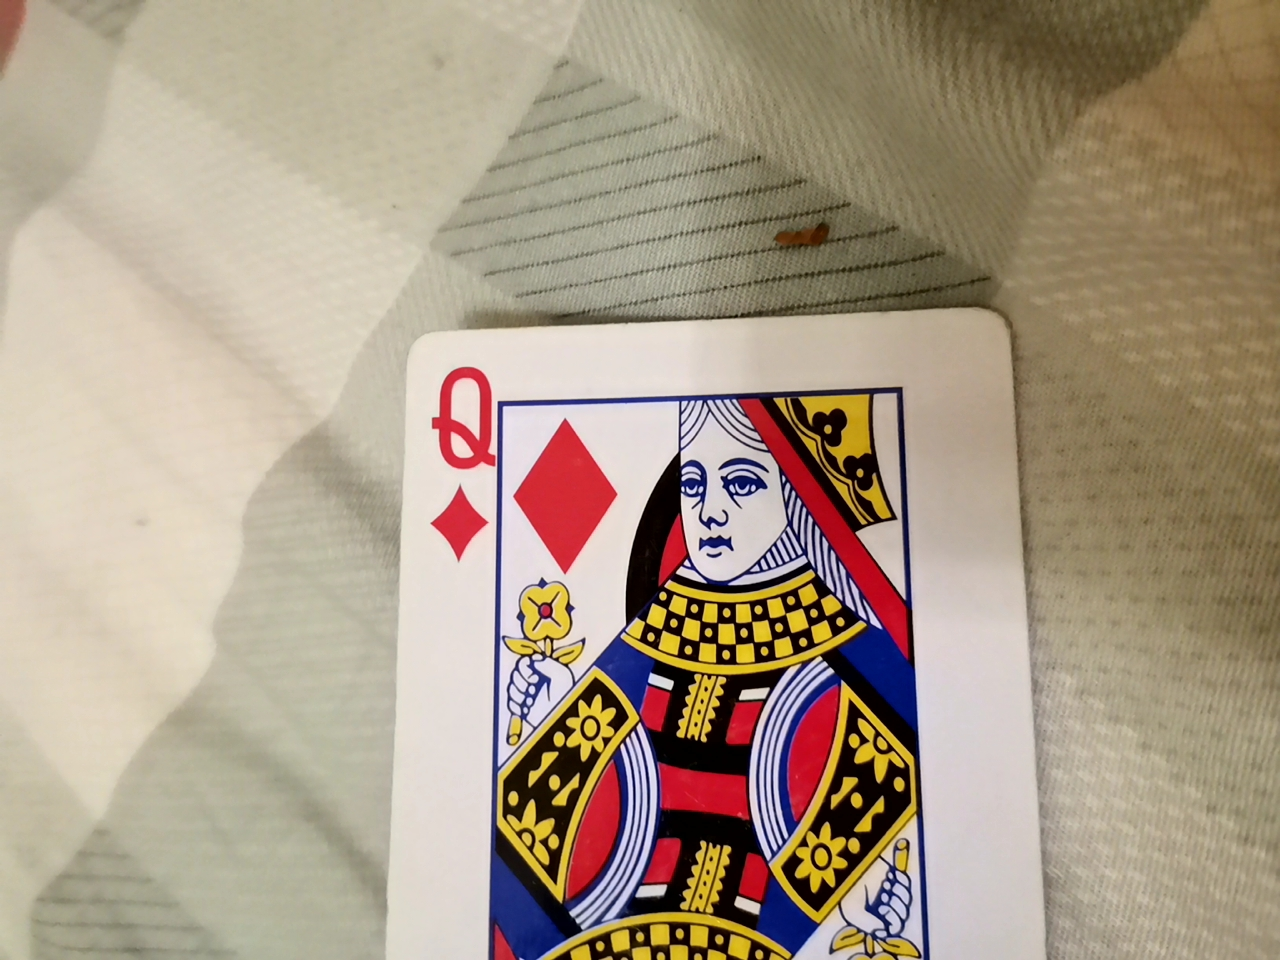fk q: (364, 317, 1054, 960)
